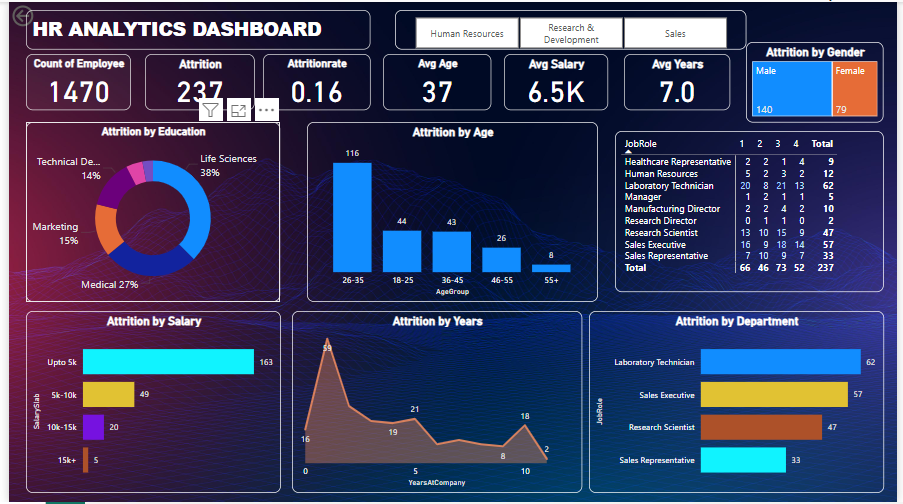

Layout of this report page (visuals, bound fields, positions):
{"tool":"powerbi","page":{"name":"Page 1","canvas":[1280,720],"ordinal":0},"visuals":[{"type":"card","title":"Count of Employee","fields":{"Values":["CountNonNull(HR_Analytics.EmpID)"]},"box":[25.2,75.6,151.2,80.6],"z":0},{"type":"card","title":"Attrition","fields":{"Values":["Sum(HR_Analytics.AttritionCount)"]},"box":[196.5,75.6,157.9,80.6],"z":1000},{"type":"card","title":"Attritionrate","fields":{"Values":["HR_Analytics.Attritionrate"]},"box":[366.2,75.6,154.5,80.6],"z":2000},{"type":"card","title":"Avg Age","fields":{"Values":["Avg(HR_Analytics.Age)"]},"box":[539.2,75.6,156.2,80.6],"z":3000},{"type":"card","title":"Avg Years","fields":{"Values":["Avg(HR_Analytics.YearsAtCompany)"]},"box":[885.2,75.6,152.9,80.6],"z":4000},{"type":"card","title":"Avg Salary","fields":{"Values":["Avg(HR_Analytics.MonthlyIncome)"]},"box":[712.2,75.6,149.5,80.6],"z":5000},{"type":"donutChart","title":" Attrition by Education","fields":{"Category":["HR_Analytics.EducationField"],"Y":["Sum(HR_Analytics.AttritionCount)"]},"box":[24.5,172.8,365.8,259.2],"z":6000},{"type":"columnChart","title":" Attrition by Age","fields":{"Category":["HR_Analytics.AgeGroup"],"Y":["Sum(HR_Analytics.AttritionCount)"]},"box":[429.1,172.8,419,259.2],"z":7000},{"type":"pivotTable","fields":{"Rows":["HR_Analytics.JobRole"],"Columns":["HR_Analytics.JobSatisfaction"],"Values":["Sum(HR_Analytics.AttritionCount)"]},"box":[872.6,185.8,387.4,231.8],"z":8000},{"type":"actionButton","box":[0,0,100,40],"z":9000},{"type":"barChart","title":" Attrition by Salary","fields":{"Category":["HR_Analytics.SalarySlab"],"Y":["Sum(HR_Analytics.AttritionCount)"]},"box":[24.5,445,367.2,262.1],"z":10000},{"type":"barChart","title":" Attrition by Department","fields":{"Y":["Sum(HR_Analytics.AttritionCount)"],"Category":["HR_Analytics.JobRole"]},"box":[835.2,445,424.8,262.1],"z":11000},{"type":"areaChart","title":" Attrition by Years","fields":{"Category":["HR_Analytics.YearsAtCompany"],"Y":["Sum(HR_Analytics.AttritionCount)"]},"box":[407.5,445,417.6,262.1],"z":12000},{"type":"treemap","title":" Attrition by Gender","fields":{"Group":["HR_Analytics.Gender"],"Values":["Sum(HR_Analytics.AttritionCount)"]},"box":[1061.6,57.1,198.2,115.9],"z":13000},{"type":"slicer","fields":{"Values":["HR_Analytics.Department"]},"box":[556,11.8,505.6,57.1],"z":14000},{"type":"textbox","box":[25.2,11.8,495.5,57.1],"z":15000}]}

Visuals, with their boxes in screenshot pixels (x1, y1, x2, y2):
"Count of Employee" card: <region>11, 47, 119, 105</region>
"Attrition" card: <region>133, 47, 246, 105</region>
"Attritionrate" card: <region>255, 47, 365, 105</region>
"Avg Age" card: <region>378, 47, 490, 105</region>
"Avg Years" card: <region>626, 47, 735, 105</region>
"Avg Salary" card: <region>502, 47, 609, 105</region>
" Attrition by Education" donutChart: <region>10, 116, 272, 302</region>
" Attrition by Age" columnChart: <region>300, 116, 599, 302</region>
pivotTable - HR_Analytics.JobRole x HR_Analytics.JobSatisfaction: <region>617, 126, 893, 291</region>
actionButton: <region>0, 0, 64, 22</region>
" Attrition by Salary" barChart: <region>10, 311, 273, 498</region>
" Attrition by Department" barChart: <region>590, 311, 893, 498</region>
" Attrition by Years" areaChart: <region>284, 311, 583, 498</region>
" Attrition by Gender" treemap: <region>752, 34, 893, 117</region>
slicer - HR_Analytics.Department: <region>390, 1, 752, 42</region>
textbox: <region>11, 1, 365, 42</region>
